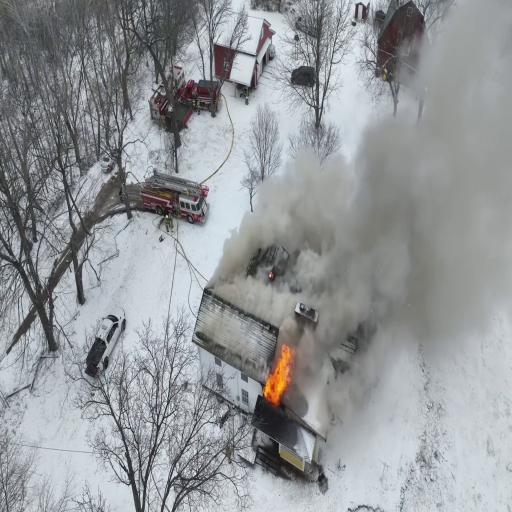fire: (260, 345, 295, 411)
smoke: (348, 189, 438, 312)
